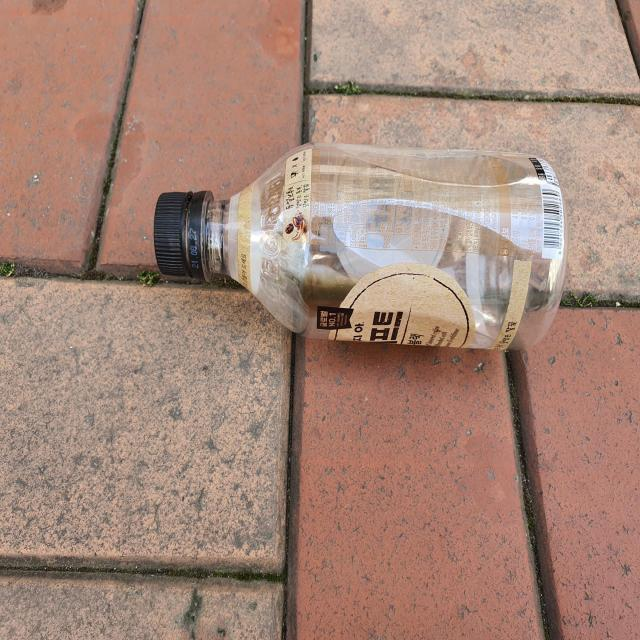plastic: (154, 143, 568, 350)
